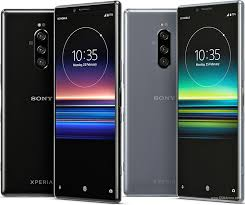sony: (54, 3, 120, 205), (179, 1, 242, 204), (122, 7, 177, 198), (1, 6, 52, 199)
